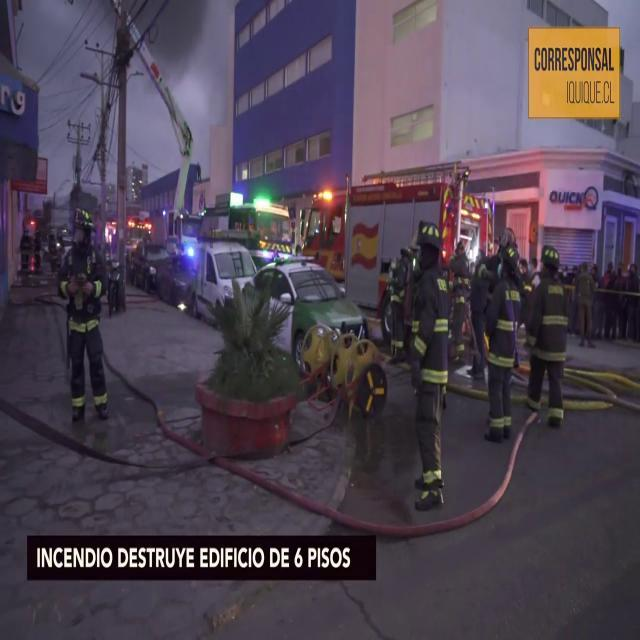Smoke: (31, 0, 231, 179)
